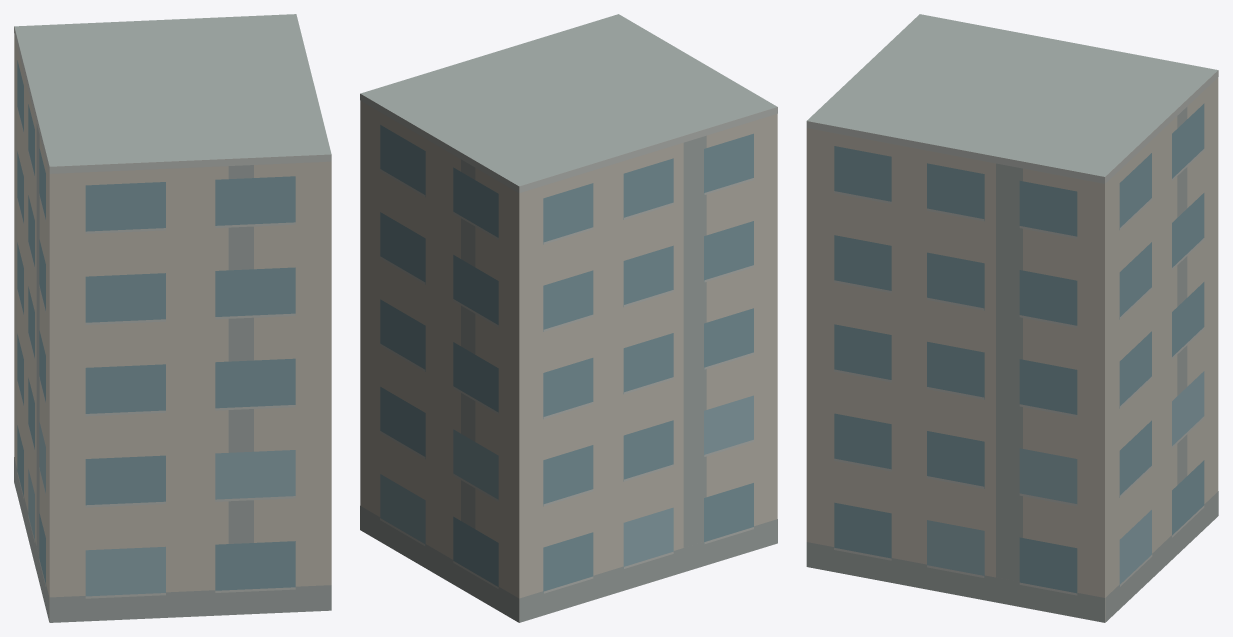
File: survey-upis-32530889.glb
3 views of the same model, side by side, from view 1: azimuth 30°, elevation 25°; view 2: azimuth 150°, elevation 25°; view 3: azimuth 270°, elevation 25° (orthographic). The views are drawn at different scales.
Visible parts, largest first — view 1: survey-upis-32530889.tmp; view 2: survey-upis-32530889.tmp; view 3: survey-upis-32530889.tmp.
Boxes of the visible parts, x1,y1,x2,y2 form: survey-upis-32530889.tmp: (14, 14, 331, 622); survey-upis-32530889.tmp: (360, 14, 777, 622); survey-upis-32530889.tmp: (806, 14, 1218, 622).
Size of the model in its own units: 12.24 by 15.6 by 13.07.
